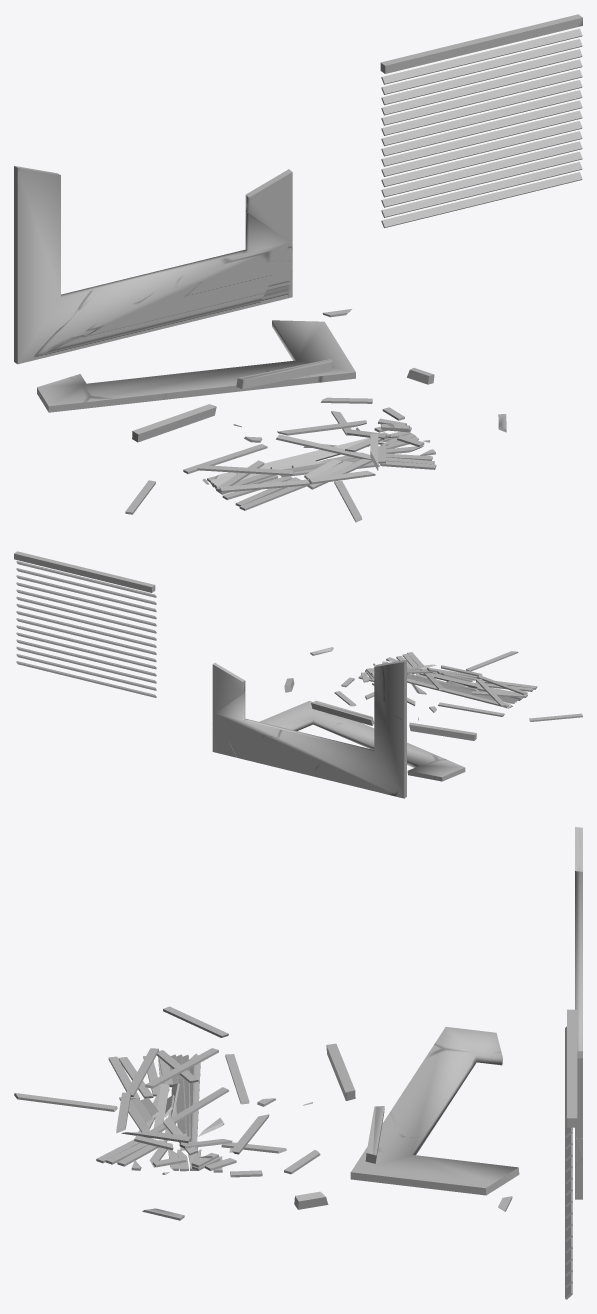
File: duvar kırılmıs.fbx
3 views of the same model, one above another, from view 1: azimuth 30°, elevation 25°; view 2: azimuth 150°, elevation 25°; view 3: azimuth 270°, elevation 25° (orthographic). The views are drawn at different scales.
Visible parts, largest first — view 1: Cube_8.002_cell.003, PENCERE KIRILMA, Cube_8.009, Cube_8.008, Cube_8.018, Cube_8.006, Cube_8.007, Cube_8.014, Cube_8.015, Cube_8.017, Cube_8.002, Cube_8.005 (+6 smaller); view 2: Cube_8.002_cell.003, PENCERE KIRILMA, Cube_8.009, Cube_8.012, Cube_8.002, Cube_8.016, Cube_8.007, Cube_8.014, Cube_8.005, Cube_8.011, Cube_8.015, Cube_8.017 (+6 smaller); view 3: PENCERE KIRILMA, Cube_8.002_cell.003, Cube_8.009.
Part boxes in pixels (x1,y1,x2,y2): Cube_8.002_cell.003: (14, 166, 355, 412); PENCERE KIRILMA: (125, 309, 506, 522); Cube_8.009: (380, 14, 582, 73); Cube_8.008: (381, 28, 582, 84); Cube_8.018: (381, 151, 582, 207); Cube_8.006: (381, 110, 582, 166); Cube_8.007: (381, 49, 582, 105); Cube_8.014: (381, 90, 582, 146); Cube_8.015: (381, 100, 582, 156); Cube_8.017: (381, 141, 582, 197); Cube_8.002: (381, 172, 582, 227); Cube_8.005: (381, 131, 582, 187); Cube_8.002_cell.003: (212, 659, 465, 798); PENCERE KIRILMA: (284, 647, 582, 740); Cube_8.009: (14, 551, 155, 592); Cube_8.012: (16, 589, 156, 626); Cube_8.002: (16, 661, 156, 697); Cube_8.016: (16, 625, 156, 662); Cube_8.007: (16, 575, 156, 611); Cube_8.014: (16, 604, 156, 640); Cube_8.005: (16, 632, 156, 669); Cube_8.011: (16, 568, 156, 604); Cube_8.015: (16, 611, 156, 647); Cube_8.017: (16, 639, 156, 676); PENCERE KIRILMA: (14, 1006, 512, 1220); Cube_8.002_cell.003: (350, 827, 582, 1199); Cube_8.009: (567, 1009, 577, 1127).
Size of the model in its own units: 1231 by 394 by 849.
